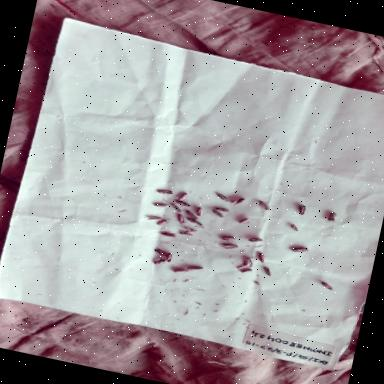pbw: (150, 196, 170, 212), (256, 200, 275, 213), (184, 263, 206, 274), (322, 209, 339, 223), (208, 207, 226, 220), (212, 192, 231, 204), (152, 254, 168, 268), (238, 255, 255, 268), (246, 235, 266, 246), (156, 230, 178, 240), (218, 232, 238, 243), (181, 225, 201, 236), (184, 210, 202, 222), (212, 204, 230, 216), (166, 202, 184, 214), (252, 250, 267, 264), (293, 202, 308, 216), (318, 280, 335, 292), (229, 194, 246, 206), (172, 198, 192, 208), (219, 241, 239, 251), (144, 213, 164, 223), (186, 218, 204, 229), (291, 244, 308, 255), (176, 189, 190, 202), (156, 187, 174, 197), (236, 215, 252, 226), (171, 267, 190, 276), (174, 213, 188, 225), (154, 246, 168, 258), (154, 215, 168, 227), (195, 204, 207, 218), (164, 252, 178, 264), (238, 266, 254, 276), (176, 230, 194, 238), (261, 266, 273, 277), (236, 262, 249, 272), (288, 222, 300, 232)
